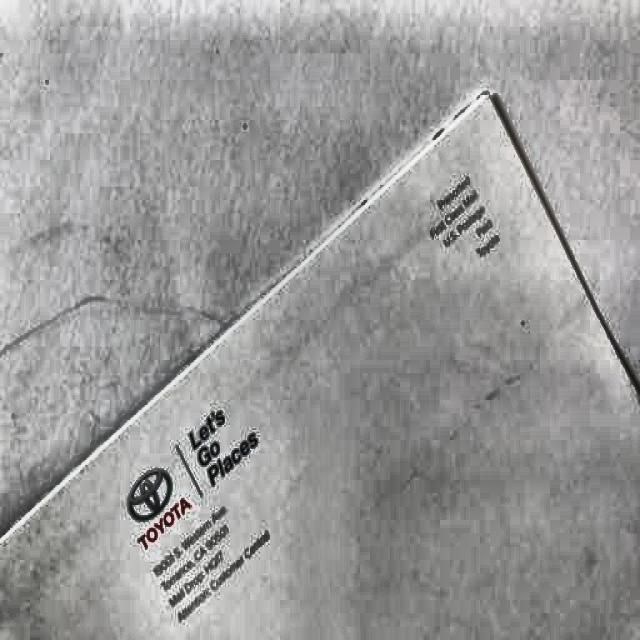paper: (83, 92, 640, 640)
